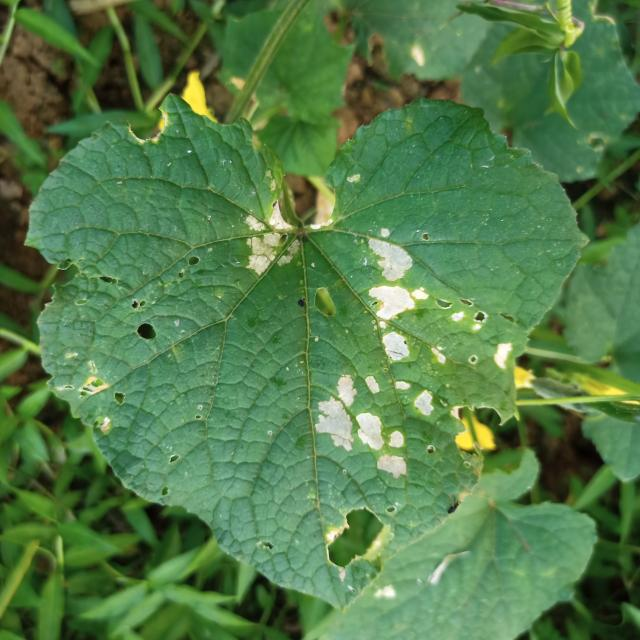disease_cucumber: (354, 229, 516, 369), (310, 368, 446, 489), (235, 197, 308, 285)
